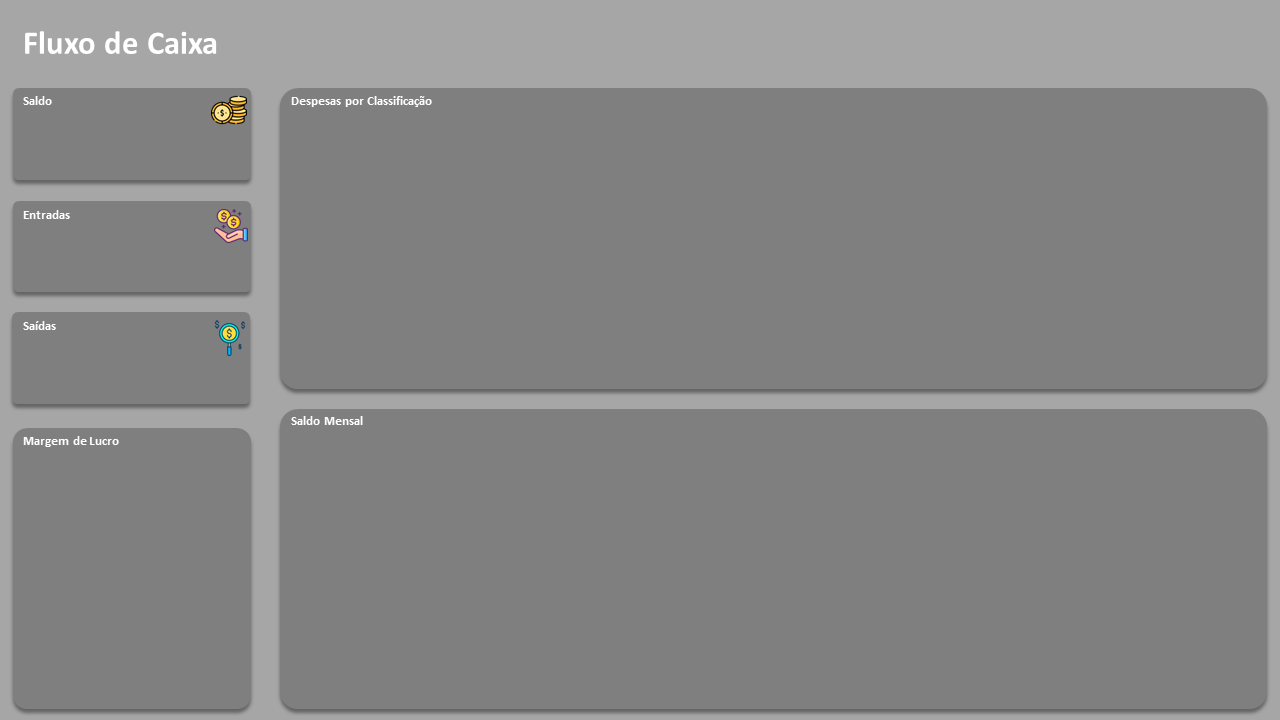

This screenshot's page, from the dashboard's own definition file:
{"tool":"powerbi","page":{"name":"Fluxo de Caixa","canvas":[1280,720],"ordinal":0},"visuals":[{"type":"card","fields":{"Values":["LANÇAMENTOS.Saldo"]},"box":[0,145.1,294,75.1],"z":0},{"type":"card","fields":{"Values":["CLASSIFICAÇÃO.Entradas"]},"box":[0,243.9,294,75.1],"z":1000},{"type":"card","fields":{"Values":["LANÇAMENTOS.Saídas"]},"box":[0,339,294,75.1],"z":2000},{"type":"columnChart","fields":{"Y":["LANÇAMENTOS.Saídas"],"Category":["CLASSIFICAÇÃO.CLASSIFICAÇÃO"]},"box":[307.7,102.6,969.5,300.2],"z":3000},{"type":"gauge","fields":{"Y":["LANÇAMENTOS.Margem"]},"box":[0,444.1,294,276.5],"z":4000},{"type":"waterfallChart","fields":{"Y":["LANÇAMENTOS.Saldo"],"Category":["LANÇAMENTOS.DATA COMPETÊNCIA.Variation.Hierarquia de datas.Mês"]},"box":[307.7,420.3,969.5,300.2],"z":5000}]}

Visuals, with their boxes in screenshot pixels (x1, y1, x2, y2), scaled from the page's 1280x720 canvas onto the 1280x720 screenshot:
card - LANÇAMENTOS.Saldo: [0,145,294,220]
card - CLASSIFICAÇÃO.Entradas: [0,244,294,319]
card - LANÇAMENTOS.Saídas: [0,339,294,414]
columnChart - LANÇAMENTOS.Saídas x CLASSIFICAÇÃO.CLASSIFICAÇÃO: [308,103,1277,403]
gauge - LANÇAMENTOS.Margem: [0,444,294,719]
waterfallChart - LANÇAMENTOS.Saldo x LANÇAMENTOS.DATA COMPETÊNCIA.Variation.Hierarquia de datas.Mês: [308,420,1277,719]
